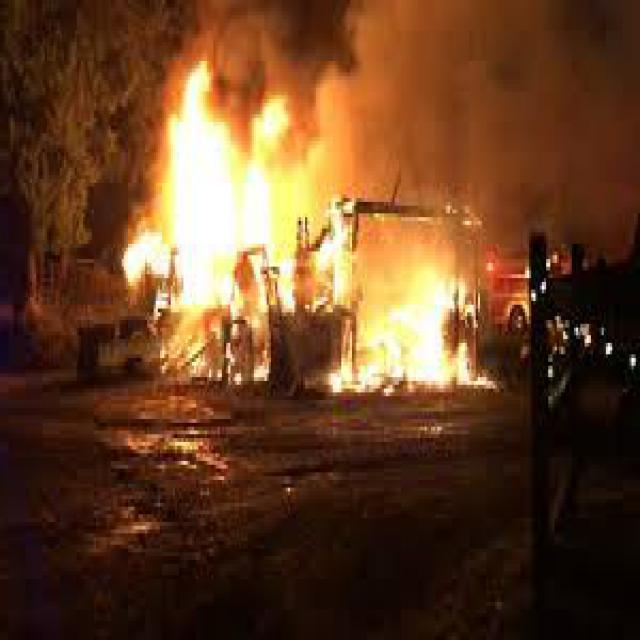Fire: (115, 56, 507, 394)
Smoke: (325, 17, 610, 225)
